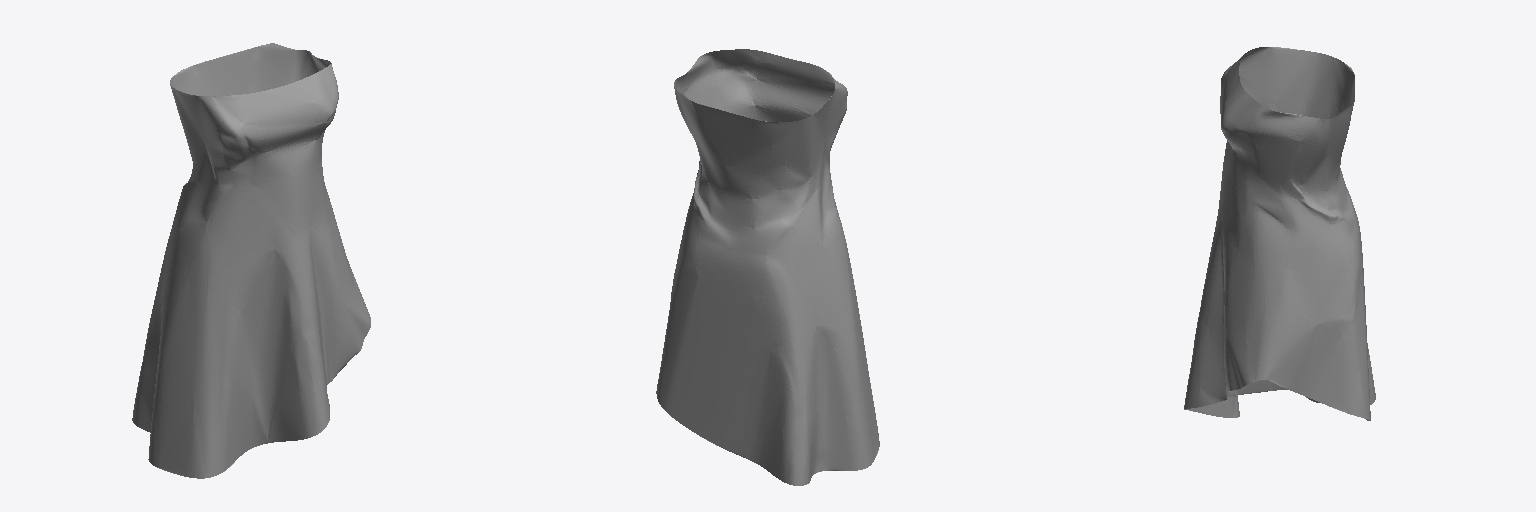
The model's file is white_dress.obj.
The picture shows the model from 3 angles: view 1: azimuth 30°, elevation 25°; view 2: azimuth 150°, elevation 25°; view 3: azimuth 270°, elevation 25°; orthographic projection.
Parts seen in each view (by area): view 1: Cloth_Shape; view 2: Cloth_Shape; view 3: Cloth_Shape.
Part boxes in pixels (left/top/right/bottom): Cloth_Shape: left=132, top=43, right=370, bottom=478; Cloth_Shape: left=656, top=49, right=879, bottom=485; Cloth_Shape: left=1184, top=47, right=1375, bottom=420.
Size of the model in its own units: 0.3151 by 0.5405 by 0.2555.